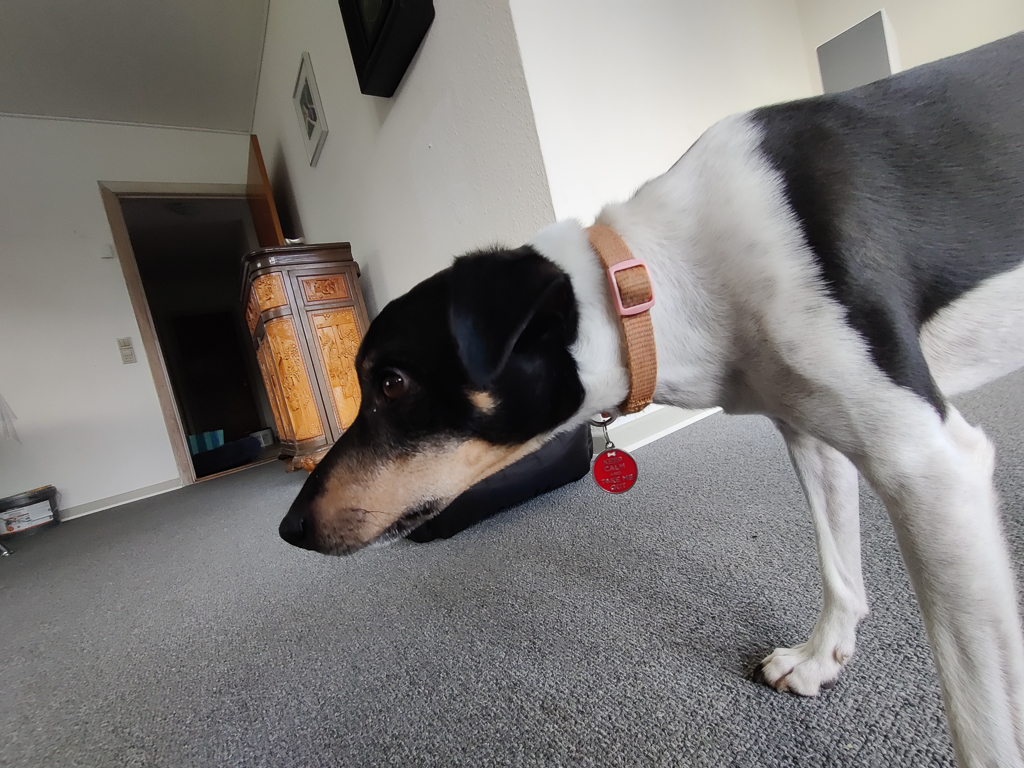Dog: (267, 20, 1024, 768)
